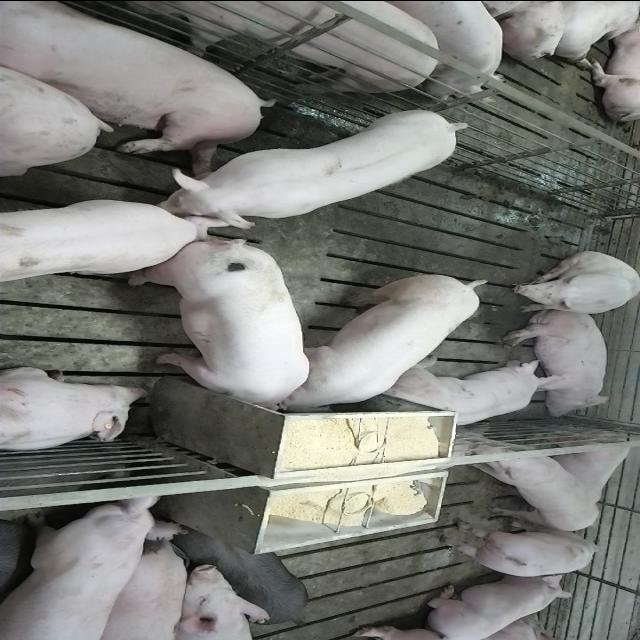Feeding: (128, 243, 310, 420), (278, 268, 496, 412)
Lateral_lying: (0, 3, 273, 165), (501, 306, 614, 416)
Sitting: (503, 250, 638, 314)
Standing: (0, 0, 447, 95), (164, 102, 478, 225), (0, 492, 183, 638), (0, 196, 207, 286), (183, 526, 311, 623), (466, 443, 602, 533), (390, 0, 510, 100), (89, 537, 192, 640), (172, 566, 270, 640)
Sternal_lying: (0, 365, 150, 453), (383, 361, 562, 431), (426, 576, 576, 638)
